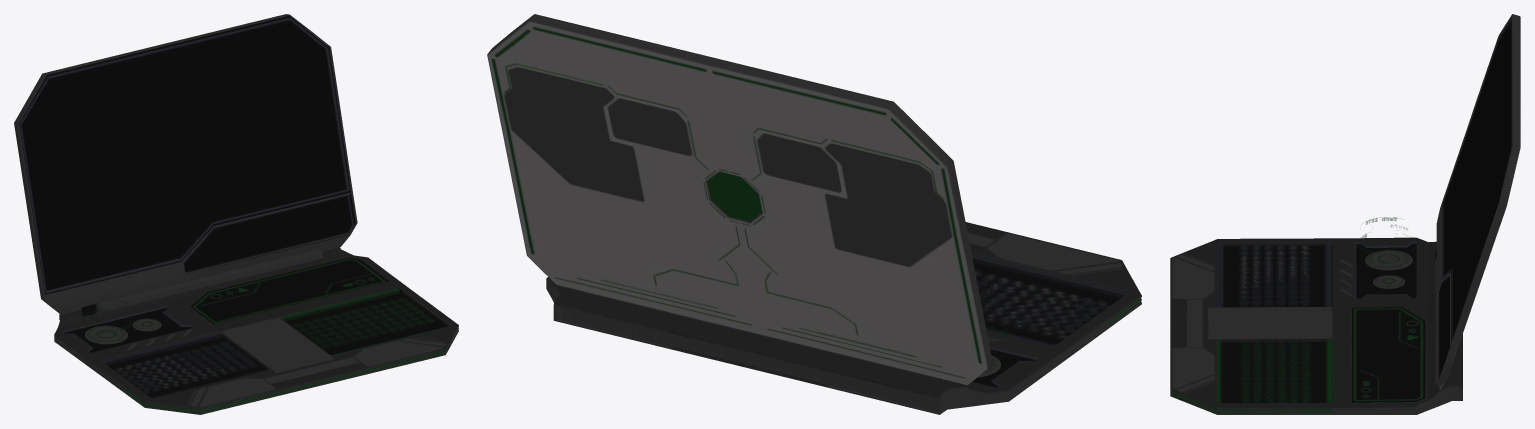
The model's file is laptop.glb.
3 views of the same model, side by side, from view 1: azimuth 30°, elevation 25°; view 2: azimuth 150°, elevation 25°; view 3: azimuth 270°, elevation 25° (orthographic). The views are drawn at different scales.
Parts seen in each view (by area): view 1: R3D_Laptop2_pPlane4_Lap_tex_0, polySurface13_Lap_tex_0; view 2: R3D_Laptop2_pPlane4_Lap_tex_0, polySurface13_Lap_tex_0; view 3: polySurface13_Lap_tex_0, R3D_Laptop2_pPlane4_Lap_tex_0, pCylinder15_Lap_tex_0.
Part boxes in pixels (x1,y1,x2,y2): R3D_Laptop2_pPlane4_Lap_tex_0: [14, 14, 357, 316]; polySurface13_Lap_tex_0: [54, 247, 458, 414]; R3D_Laptop2_pPlane4_Lap_tex_0: [487, 14, 992, 384]; polySurface13_Lap_tex_0: [546, 222, 1141, 414]; polySurface13_Lap_tex_0: [1170, 237, 1462, 414]; R3D_Laptop2_pPlane4_Lap_tex_0: [1435, 14, 1520, 389]; pCylinder15_Lap_tex_0: [1359, 217, 1416, 256].
Bounding box in the file's own units: 0.4257 × 0.2946 × 0.3724.
1 material, 1 textured.
